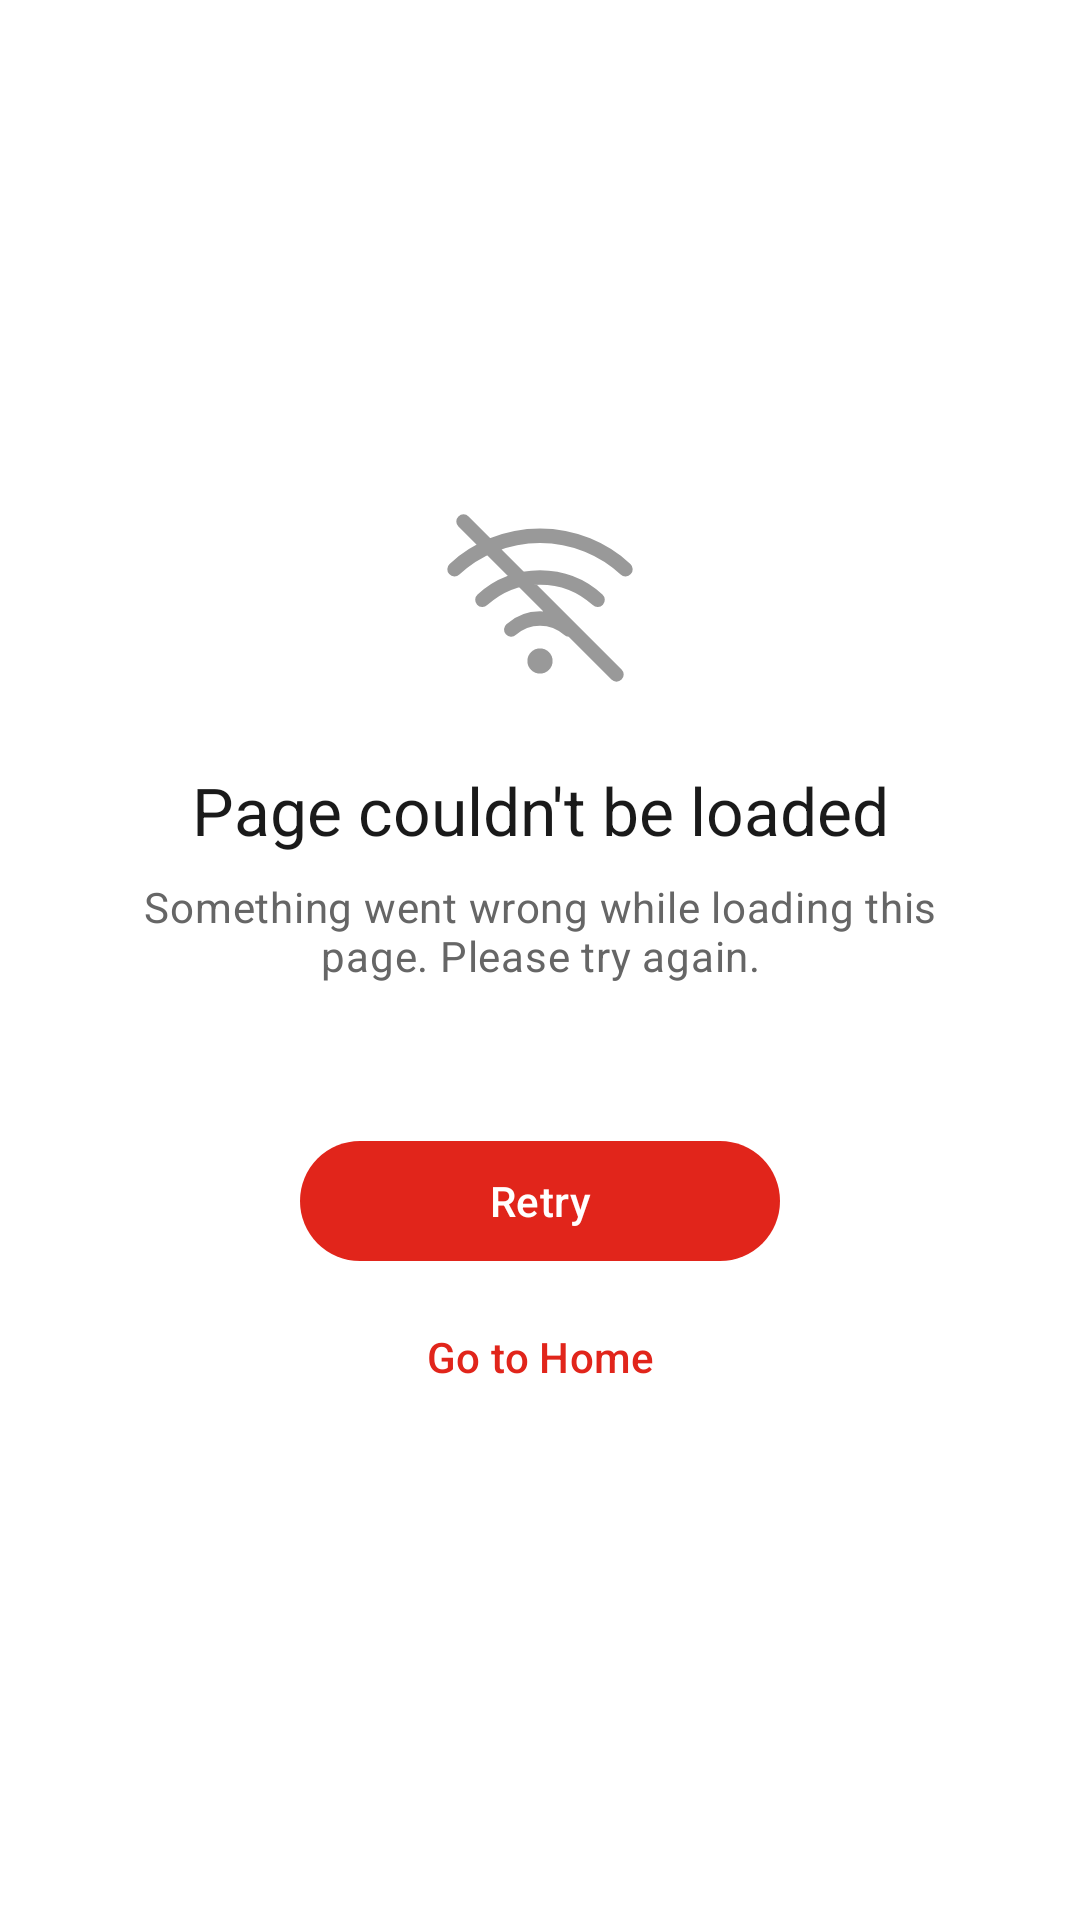

Icon bounding boxes for this 1080x1920 phone screenshot, format [left=x1, top=y1, right=x2, bottom=y2]:
error offline: [left=447, top=514, right=633, bottom=682]
